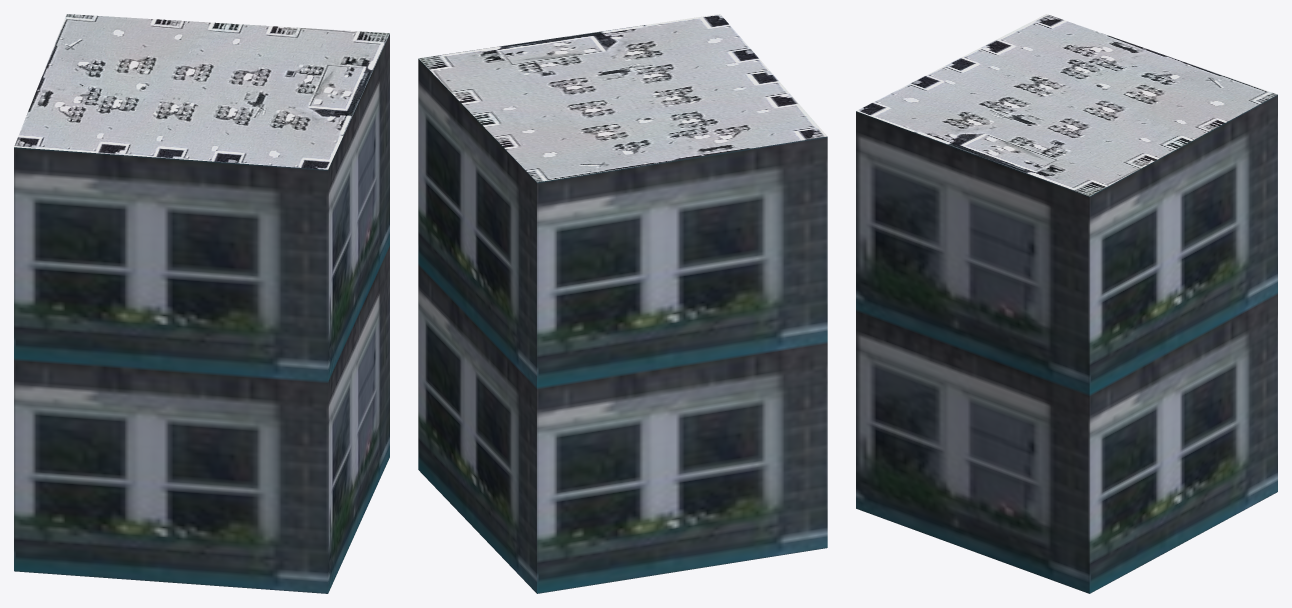
The model's file is ResTex__3961.fbx.
3 views of the same model, side by side, from view 1: azimuth 30°, elevation 25°; view 2: azimuth 150°, elevation 25°; view 3: azimuth 270°, elevation 25° (orthographic). The views are drawn at different scales.
Visible parts, largest first — view 1: CityEngineMaterial_11_m, CityEngineMaterial_8_m; view 2: CityEngineMaterial_11_m, CityEngineMaterial_8_m; view 3: CityEngineMaterial_11_m, CityEngineMaterial_8_m.
Part boxes in pixels (box(x1,y1,x2,y2)): CityEngineMaterial_11_m: box(14, 34, 389, 593); CityEngineMaterial_8_m: box(14, 14, 389, 169); CityEngineMaterial_11_m: box(418, 59, 827, 593); CityEngineMaterial_8_m: box(418, 14, 827, 182); CityEngineMaterial_11_m: box(856, 94, 1277, 593); CityEngineMaterial_8_m: box(856, 14, 1277, 196).
Size of the model in its own units: 5.91 by 6 by 5.77.
Materials: 2 (2 with a texture image).
